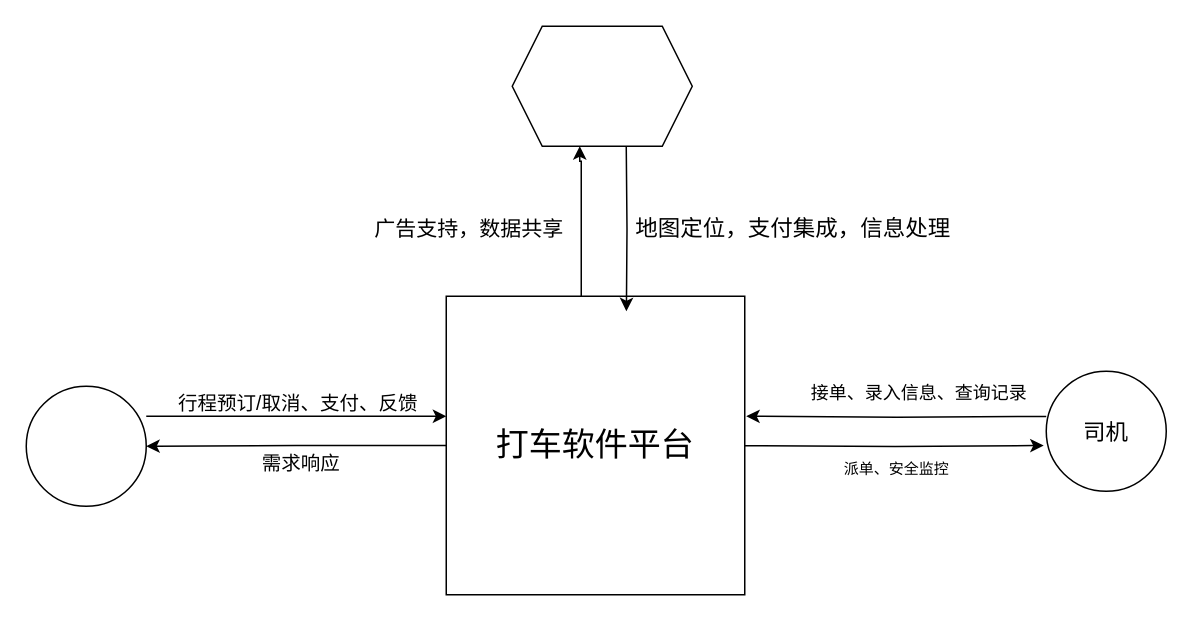
This 1193x621 diagram has some shape labels left out. Each missing label, with the centre of its shape:
乘客: the point at 85,445
第三方服务: the point at 601,85
